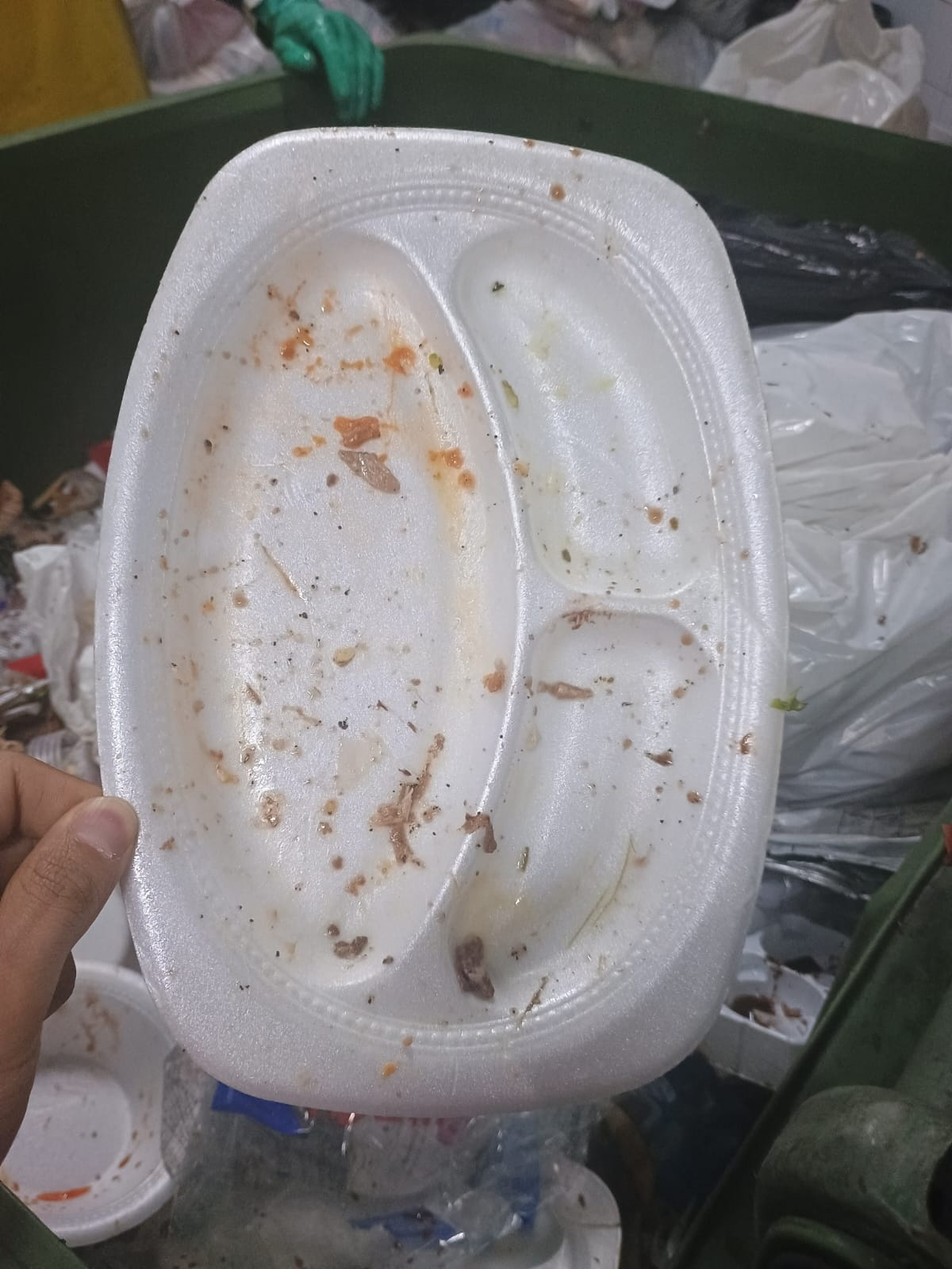Ordinario: (96, 127, 788, 1119)
